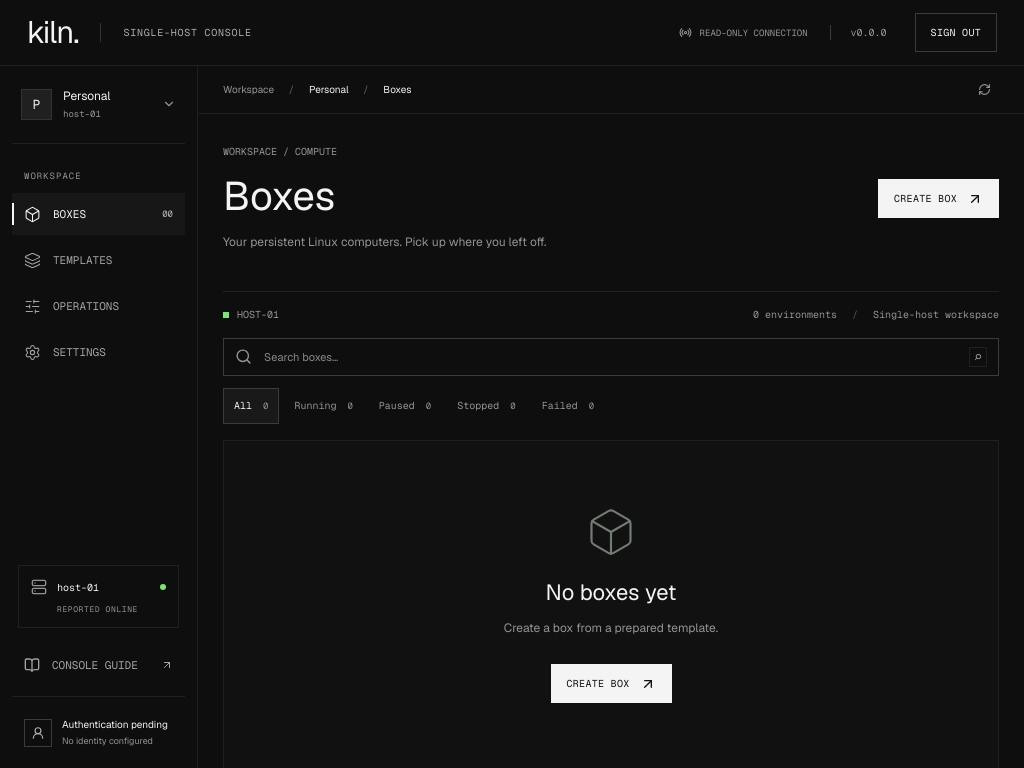
Test: enables create only on a live authenticated console and shows the box once observed
The image size is (1024, 768).
Click the 1st button "Create box" at [938, 199], box [878,179,999,218]
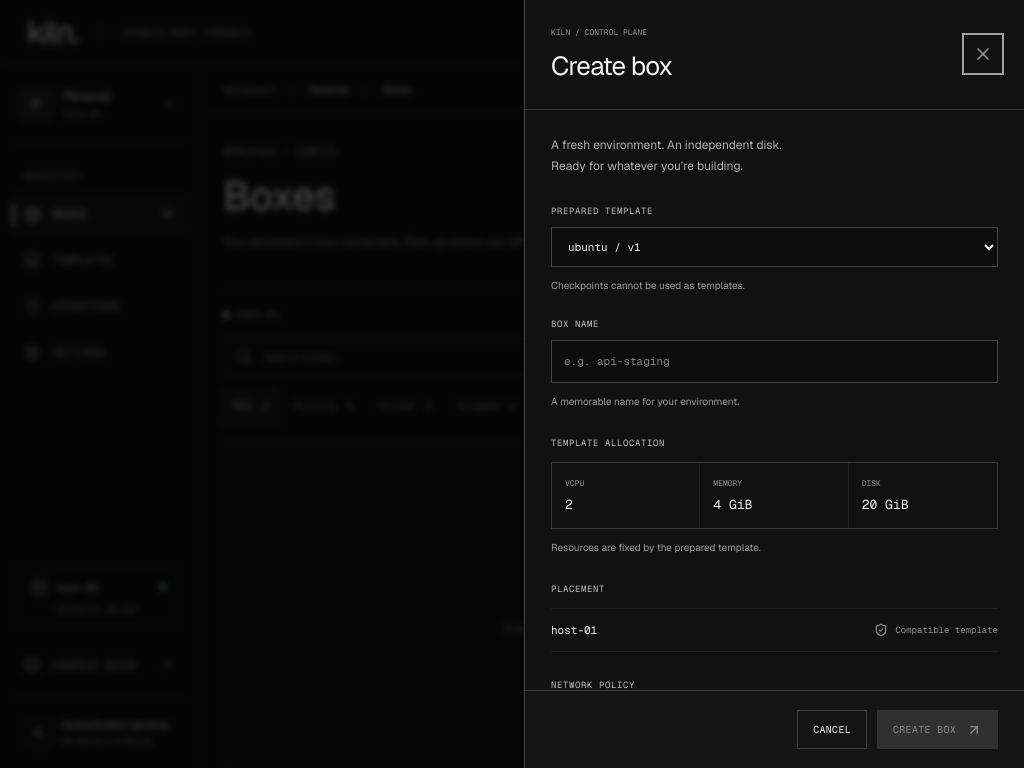
Type "api-staging" into the field labelled "Box name" at [774, 361], box [551,340,998,383]
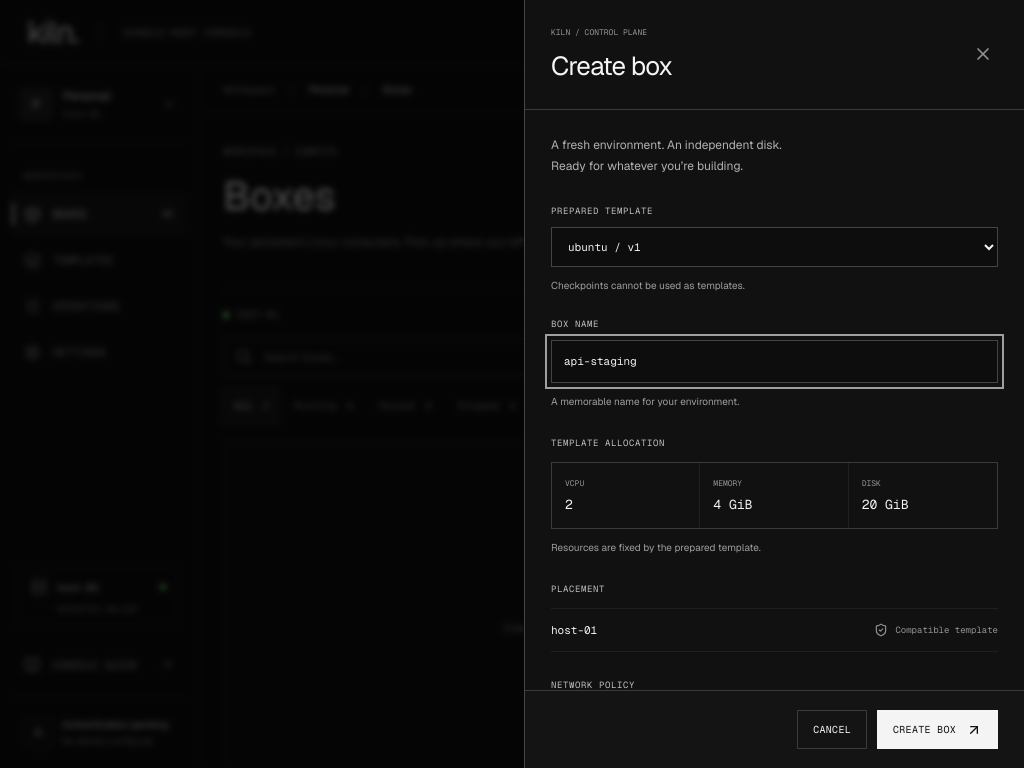
Result: the button "Create box" is enabled
Click the button "Create box" at [938, 730], box [877,710,998,749]
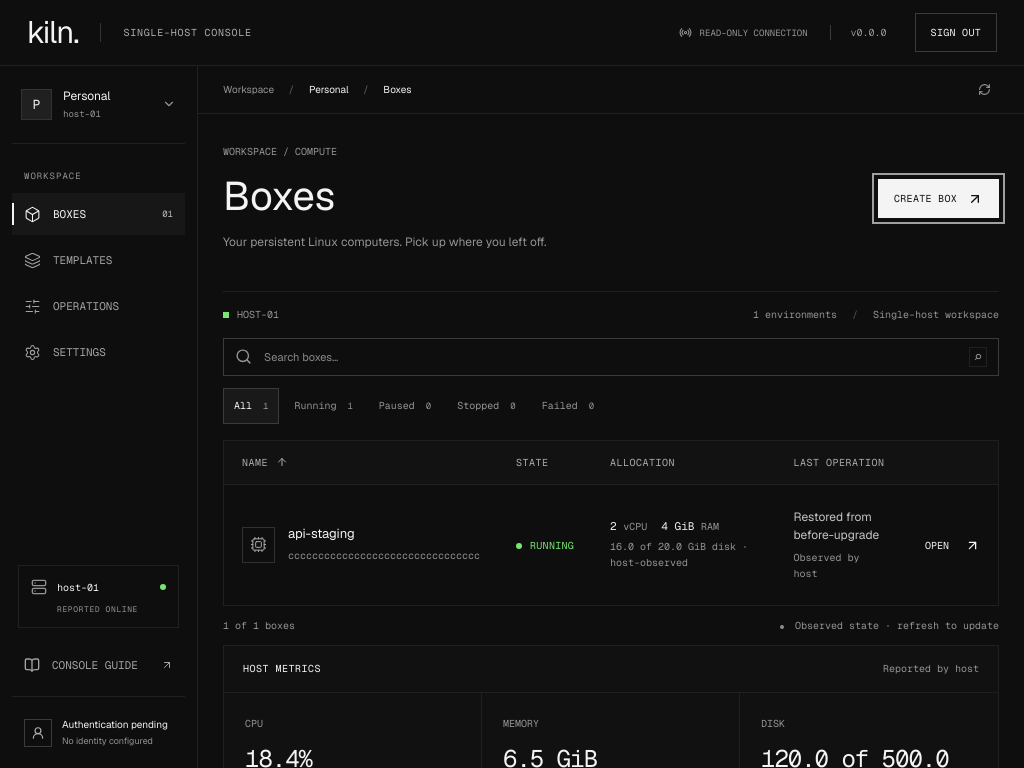
Result: the dialog is gone
Result: the link "api-staging" is shown at [288,525,355,542]
